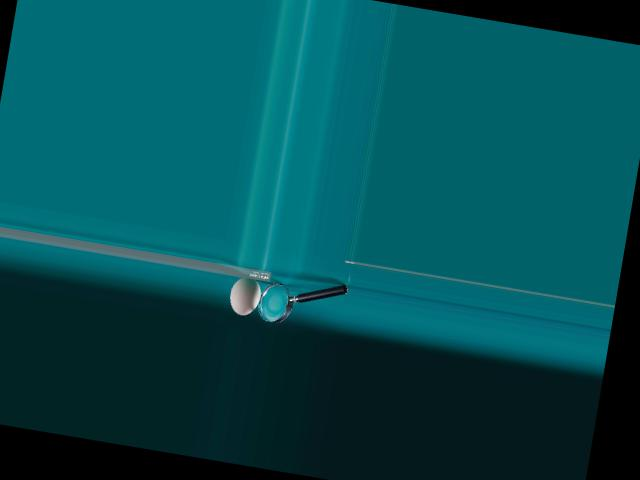egg: (226, 274, 263, 317)
